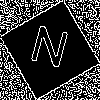N: (25, 25, 71, 78)
